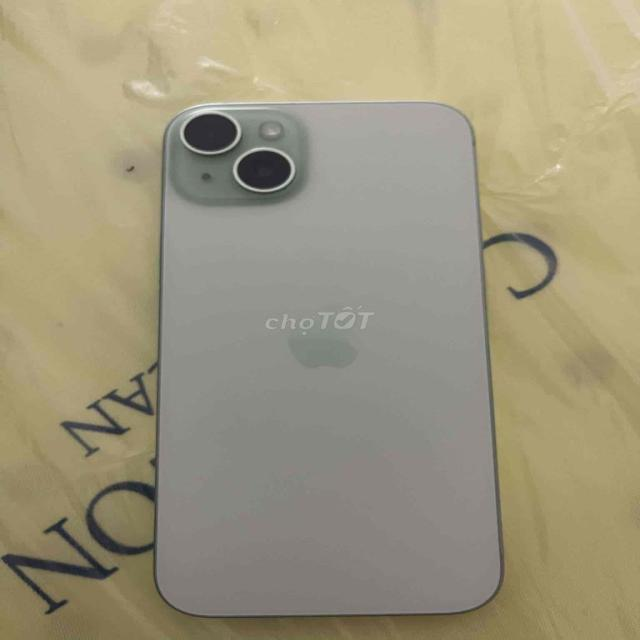gen_15: (157, 94, 513, 640)
